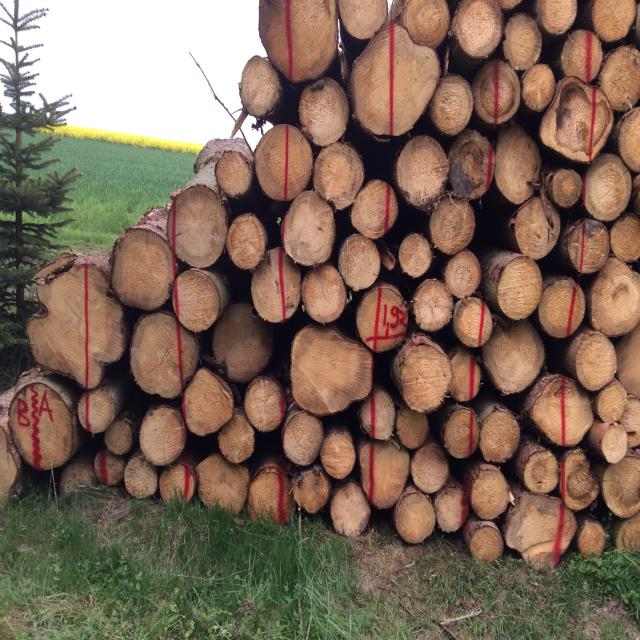wood-log: (21, 0, 260, 138), (27, 264, 126, 388), (350, 22, 441, 136), (292, 323, 375, 413), (257, 2, 337, 83), (5, 379, 75, 469), (132, 314, 203, 399), (68, 264, 122, 370), (540, 85, 613, 163), (113, 228, 178, 308), (526, 374, 594, 447), (211, 305, 273, 385), (168, 187, 228, 269), (503, 496, 576, 563), (255, 123, 315, 200), (482, 324, 544, 396), (395, 136, 450, 210), (396, 338, 452, 410), (586, 259, 638, 336), (284, 192, 338, 266), (251, 246, 302, 323), (493, 126, 541, 207), (354, 286, 409, 354), (182, 369, 235, 437), (314, 141, 366, 210), (356, 441, 408, 510), (302, 81, 352, 148), (446, 129, 492, 201), (583, 155, 633, 221), (494, 254, 542, 320), (510, 195, 559, 259), (475, 58, 522, 124), (198, 453, 250, 512), (537, 280, 587, 341), (172, 269, 220, 332), (451, 0, 502, 59), (566, 330, 616, 390), (140, 404, 189, 464), (352, 180, 401, 239), (249, 466, 295, 527), (562, 219, 612, 275), (428, 74, 473, 135), (304, 264, 351, 322), (430, 195, 476, 253), (241, 56, 284, 117), (601, 46, 640, 110), (337, 236, 379, 294), (560, 451, 600, 511), (226, 214, 268, 271), (603, 454, 640, 518), (469, 466, 512, 521), (329, 481, 372, 535), (245, 379, 288, 433), (410, 280, 454, 332), (504, 12, 544, 69), (283, 411, 325, 465), (559, 32, 604, 82), (479, 409, 520, 463), (402, 0, 449, 47), (452, 296, 494, 348), (396, 492, 436, 543), (358, 389, 396, 442), (440, 406, 478, 459), (410, 443, 449, 493), (337, 0, 387, 39), (451, 345, 484, 402), (591, 0, 636, 41), (214, 151, 252, 199), (219, 413, 256, 462), (522, 64, 558, 114), (441, 251, 479, 298), (320, 432, 357, 480), (294, 468, 332, 514), (398, 232, 435, 279), (80, 389, 118, 434), (157, 461, 194, 506), (525, 451, 562, 495), (617, 328, 640, 396), (435, 486, 468, 533), (0, 426, 19, 506), (55, 459, 96, 496), (469, 522, 505, 563), (536, 0, 578, 35), (549, 167, 583, 208), (611, 215, 640, 263), (618, 109, 640, 172), (397, 408, 430, 449), (125, 455, 157, 497), (597, 380, 628, 423), (578, 518, 609, 558), (597, 424, 628, 464), (94, 448, 124, 486), (105, 421, 134, 456), (618, 513, 640, 553), (620, 399, 640, 434), (86, 355, 102, 391), (77, 392, 90, 434), (495, 0, 524, 11), (633, 174, 640, 218)
